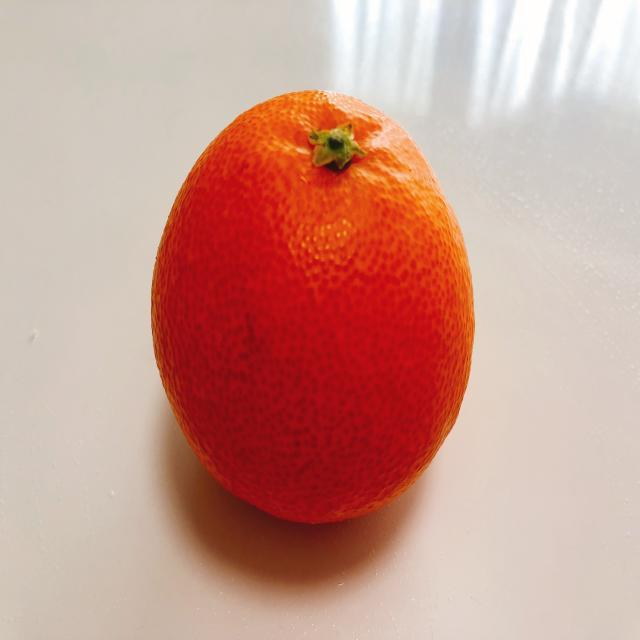Orange: (153, 86, 478, 528)
